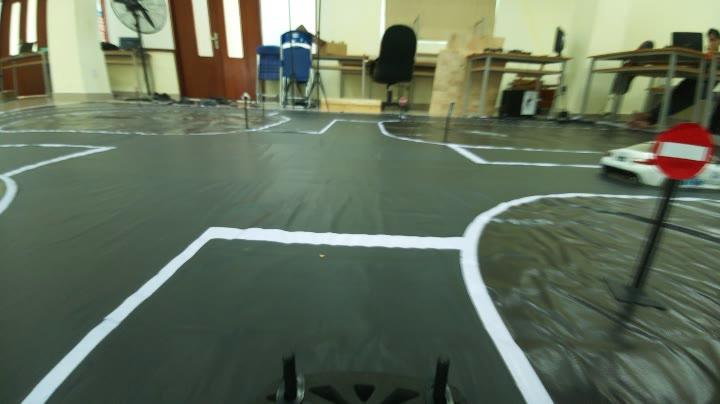no_entry: (643, 117, 720, 172)
